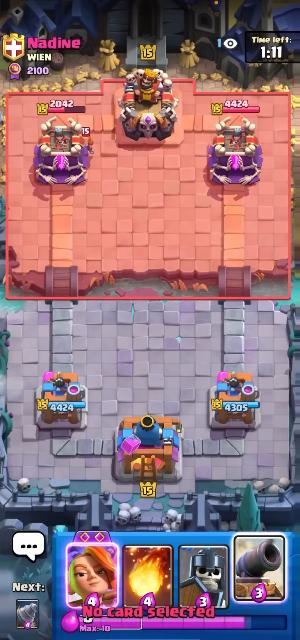enemy_building: (120, 72, 174, 141)
enemy_melee: (79, 127, 94, 156)
